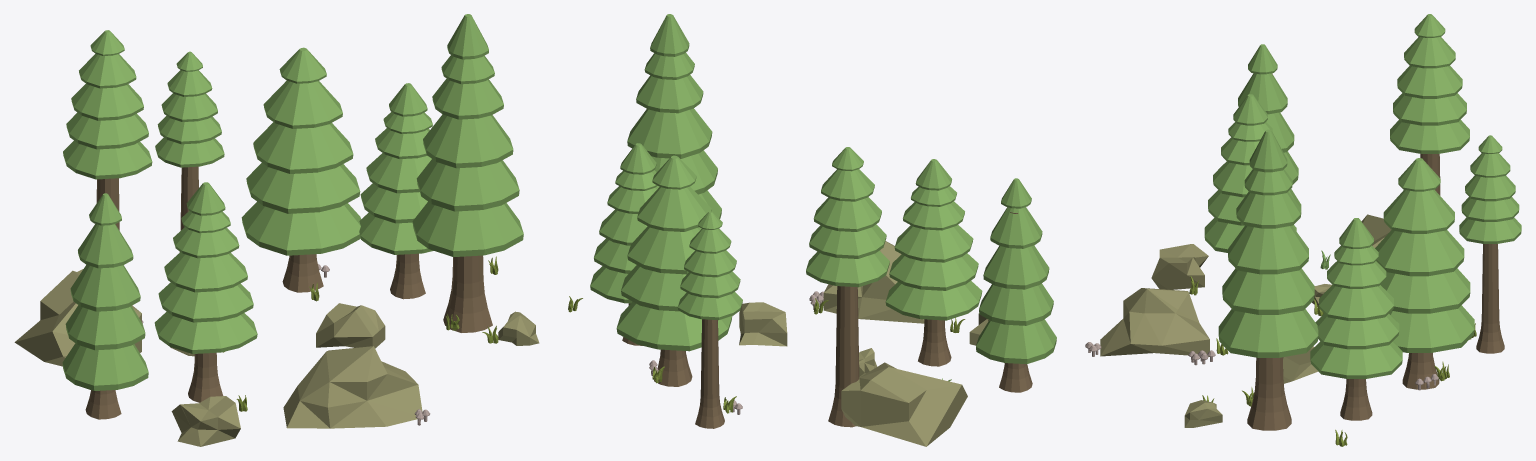
Rendered from ForrestE.fbx.
3 views of the same model, side by side, from view 1: azimuth 30°, elevation 25°; view 2: azimuth 150°, elevation 25°; view 3: azimuth 270°, elevation 25° (orthographic). The views are drawn at different scales.
Visible parts, largest first — view 1: ForrestD; view 2: ForrestD; view 3: ForrestD.
Part boxes in pixels (x1=…): ForrestD: x1=14, y1=14, x2=539, y2=446; ForrestD: x1=568, y1=14, x2=1056, y2=446; ForrestD: x1=1085, y1=14, x2=1521, y2=446.
Size of the model in its own units: 4520 by 2847 by 3848.
